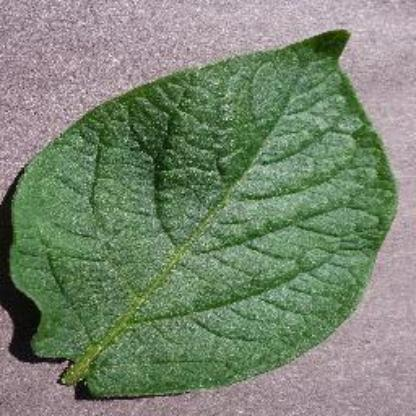Healthy-plant: (8, 22, 398, 400)
